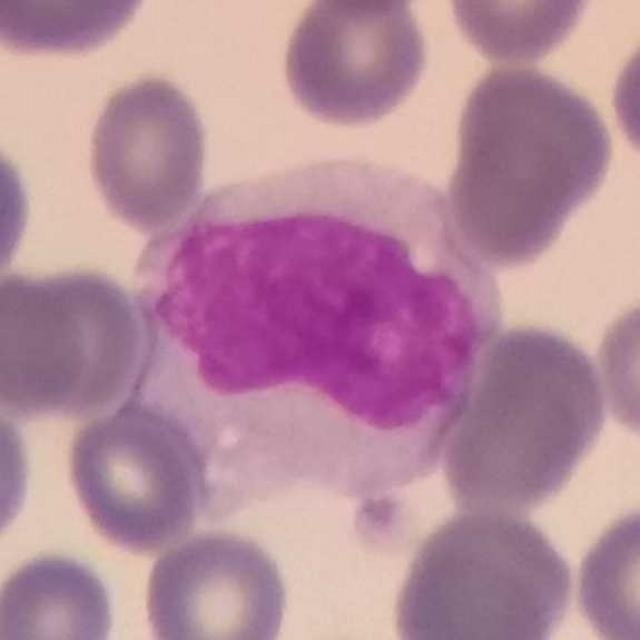mono: (121, 152, 516, 518)
